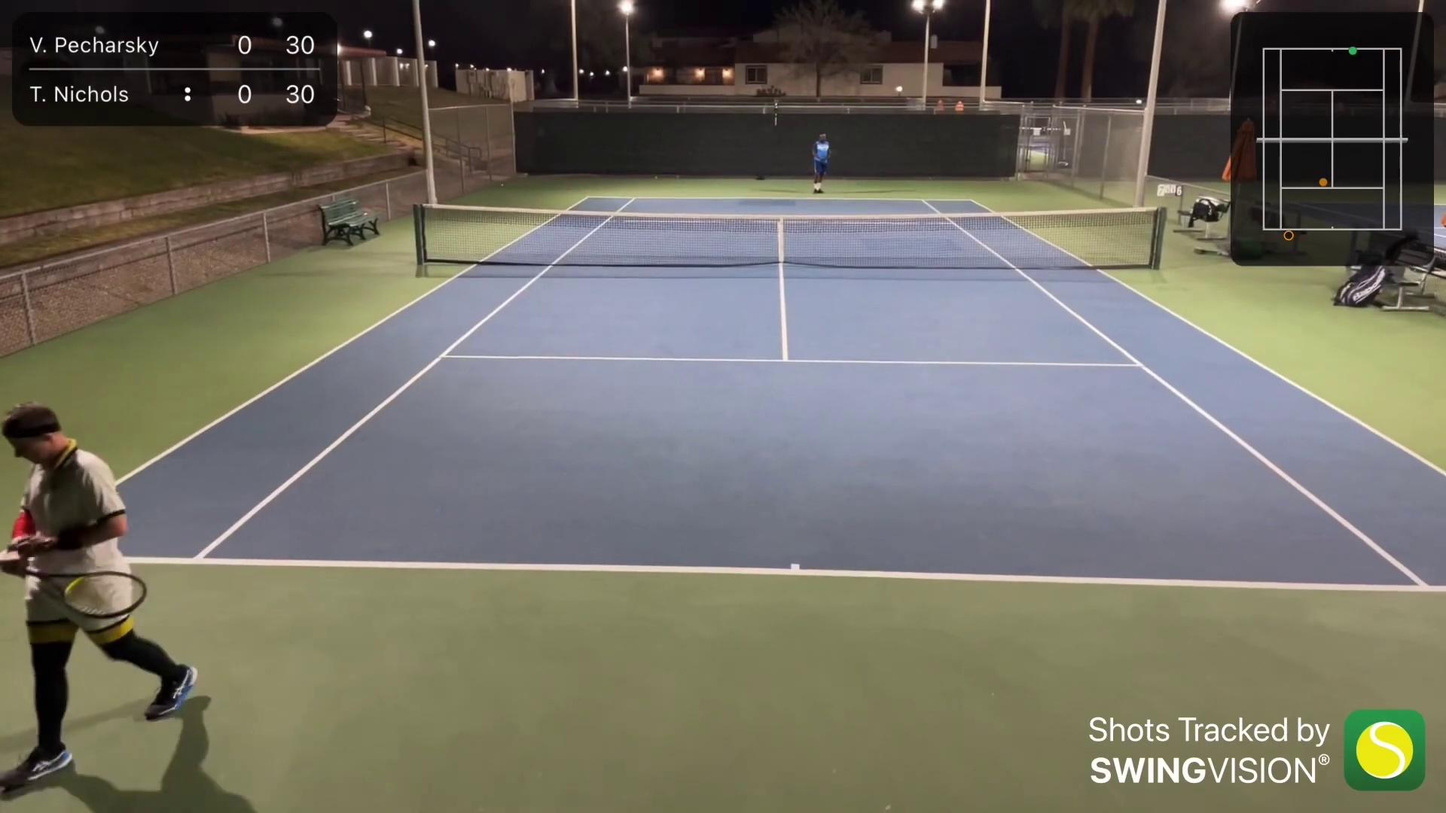ball: (220, 410, 235, 424), (500, 182, 505, 188), (653, 176, 660, 179)
